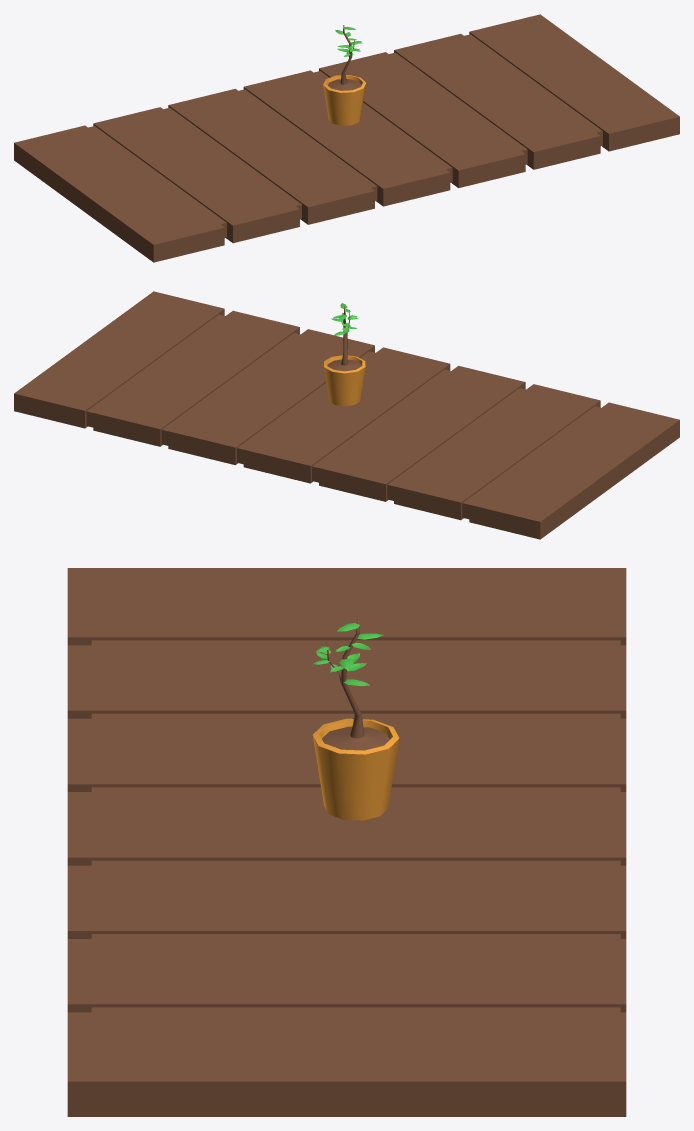
File: Terraza.F_AssestsConcert.fbx
The picture shows the model from 3 angles, top to bottom: view 1: azimuth 30°, elevation 25°; view 2: azimuth 150°, elevation 25°; view 3: azimuth 270°, elevation 25°; orthographic projection. The views are drawn at different scales.
Parts seen in each view (by area): view 1: TerrazaFEO, MacetaFEO; view 2: TerrazaFEO, MacetaFEO; view 3: TerrazaFEO, MacetaFEO.
Boxes of the visible parts, x1=… form: TerrazaFEO: x1=14, y1=14, x2=679, y2=262; MacetaFEO: x1=323, y1=25, x2=366, y2=125; TerrazaFEO: x1=14, y1=291, x2=679, y2=539; MacetaFEO: x1=324, y1=303, x2=365, y2=406; TerrazaFEO: x1=67, y1=568, x2=626, y2=1116; MacetaFEO: x1=312, y1=618, x2=399, y2=820.
Bounding box in the file's own units: 1419 × 310 × 652.
